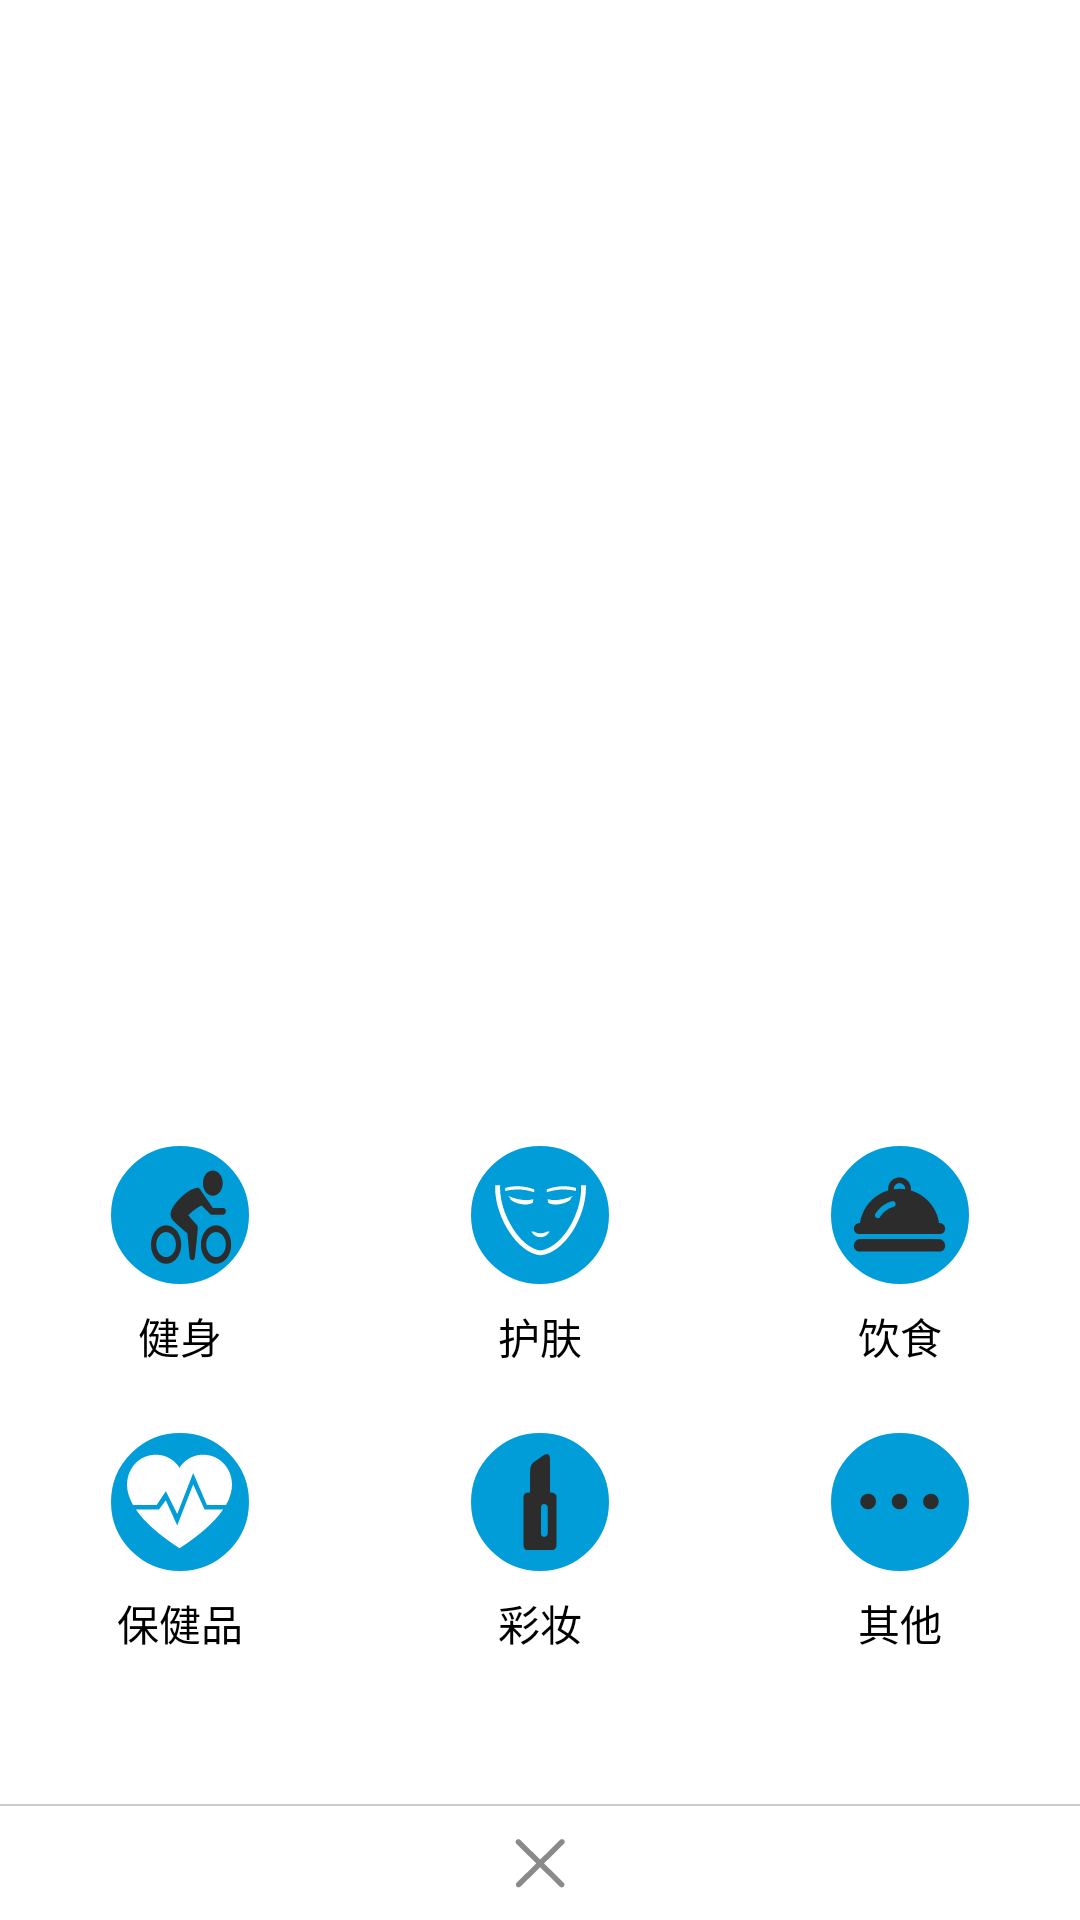

Where to tap for icons on this 1080 x 1920 app screen, as point (x, y):
bicycle: point (191, 1217)
cancel: point (540, 1863)
cosmetic: point (540, 1502)
eating: point (899, 1214)
healthcare: point (179, 1501)
menu: point (899, 1501)
